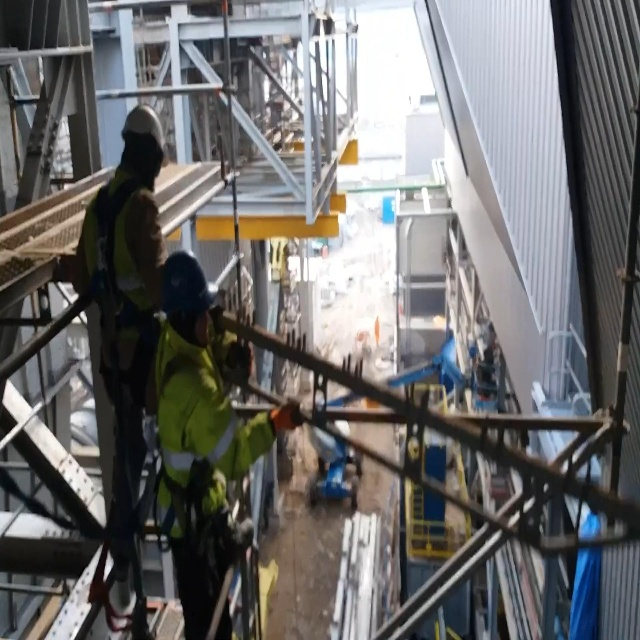Arnes_seguridad: (82, 176, 161, 446), (140, 329, 229, 546)
